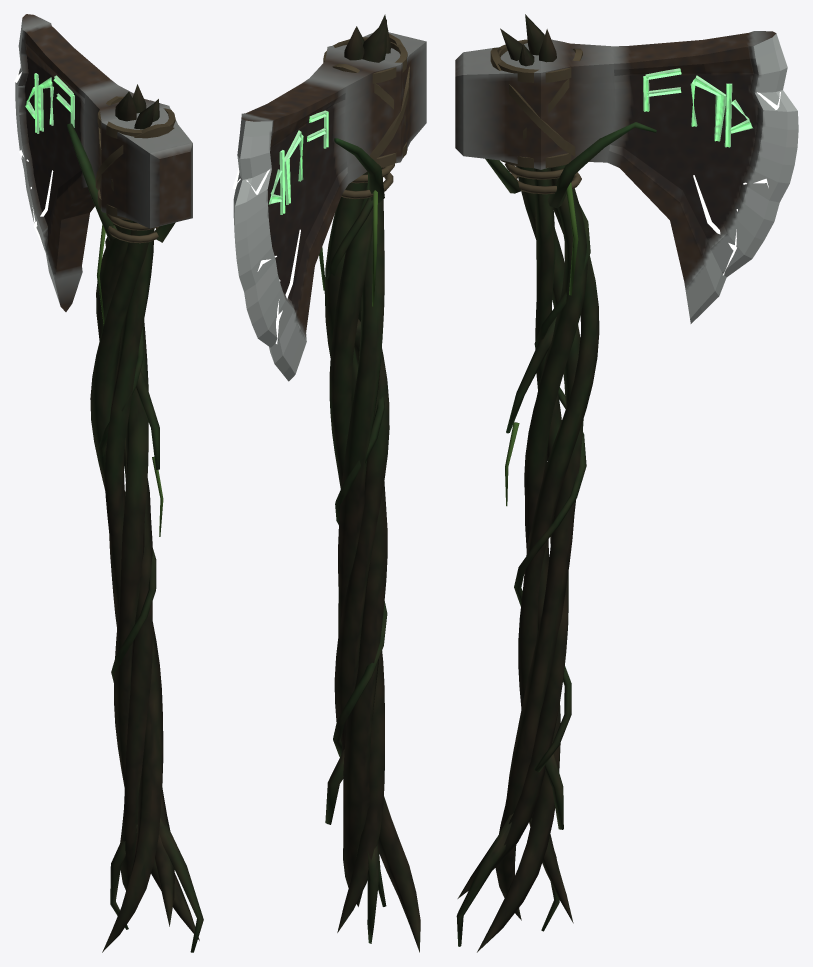
Rendered from SwampAxe_Right_Cursed.fbx.
3 renders of one model, left to right at view 1: azimuth 30°, elevation 25°; view 2: azimuth 150°, elevation 25°; view 3: azimuth 270°, elevation 25°, orthographic. The views are drawn at different scales.
Parts seen in each view (by area): view 1: SwampAxe_Right_Cursed; view 2: SwampAxe_Right_Cursed; view 3: SwampAxe_Right_Cursed.
Boxes of the visible parts, left/top/right/bottom form: SwampAxe_Right_Cursed: left=14, top=14, right=203, bottom=952; SwampAxe_Right_Cursed: left=232, top=14, right=426, bottom=952; SwampAxe_Right_Cursed: left=455, top=14, right=798, bottom=952.
Bounding box in the file's own units: 0.072 × 0.76 × 0.2566.
Materials: 1 (1 with a texture image).
